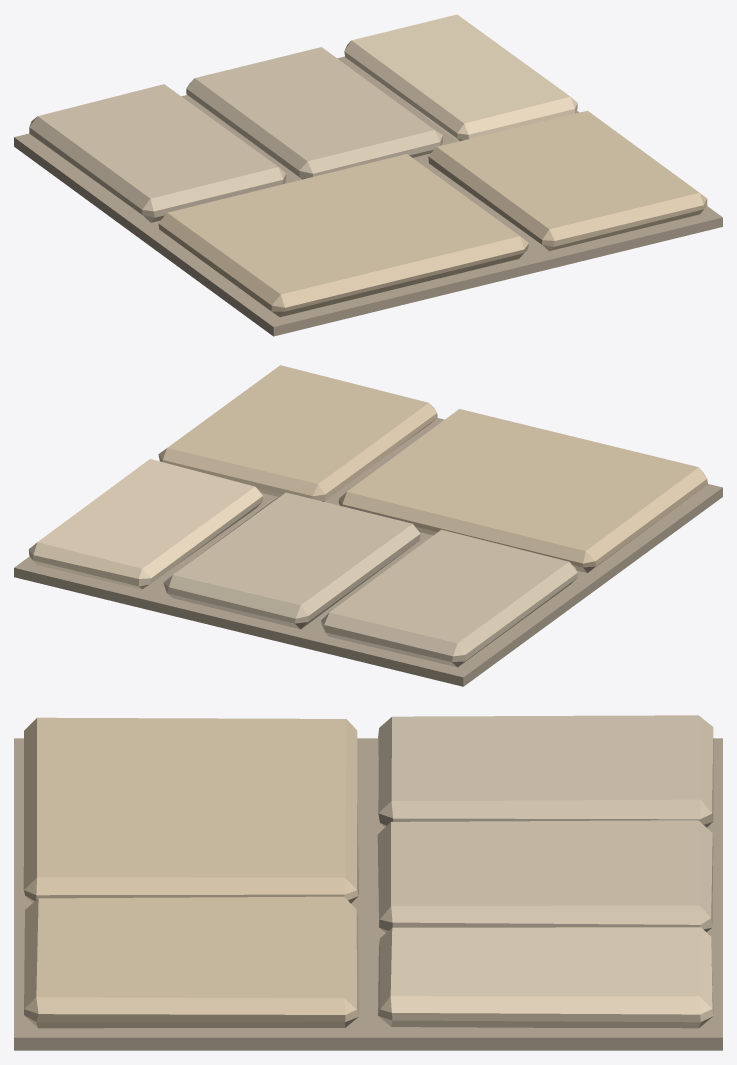
The model's file is paving_1x1.glb.
The picture shows the model from 3 angles, top to bottom: view 1: azimuth 30°, elevation 25°; view 2: azimuth 150°, elevation 25°; view 3: azimuth 270°, elevation 25°; orthographic projection. The views are drawn at different scales.
Visible parts, largest first — view 1: paving_1x1; view 2: paving_1x1; view 3: paving_1x1.
Part boxes in pixels (x1,y1,x2,y2): paving_1x1: [14, 14, 722, 336]; paving_1x1: [14, 365, 722, 686]; paving_1x1: [14, 715, 722, 1050].
Size of the model in its own units: 1 by 0.0718 by 1.
